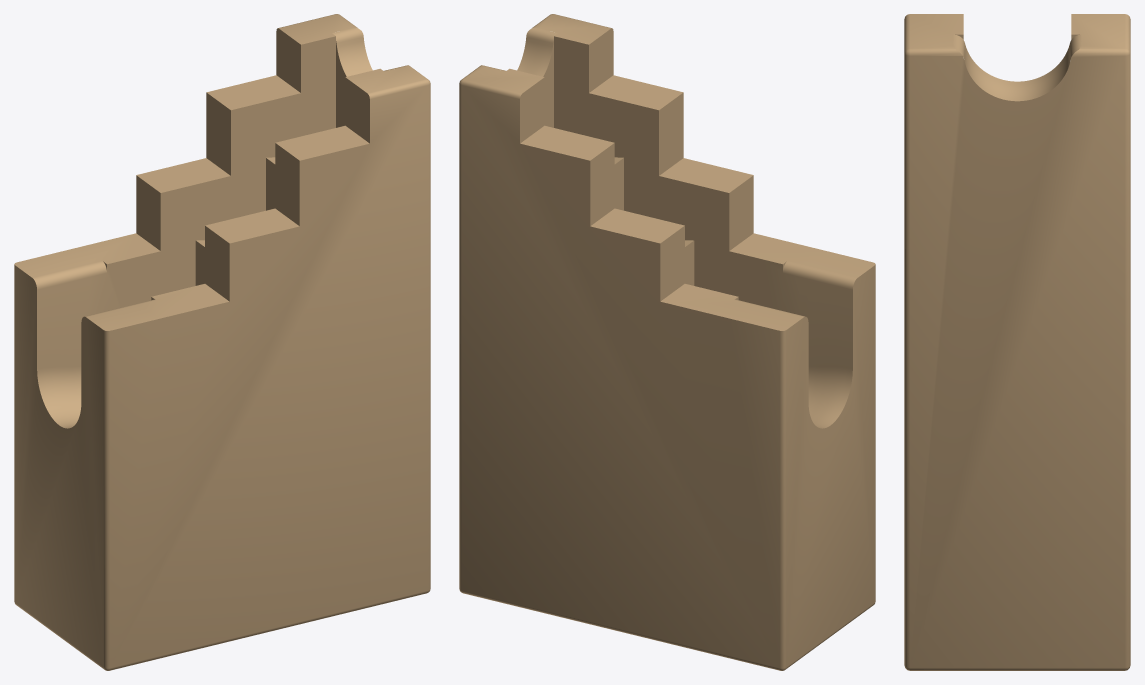
Rendered from mech_stepper_up1_l1.glb.
3 renders of one model, left to right at view 1: azimuth 30°, elevation 25°; view 2: azimuth 150°, elevation 25°; view 3: azimuth 270°, elevation 25°, orthographic. The views are drawn at different scales.
Visible parts, largest first — view 1: mech_stepper_up1_l1_lod0; view 2: mech_stepper_up1_l1_lod0; view 3: mech_stepper_up1_l1_lod0.
Part boxes in pixels (x1,y1,x2,y2): mech_stepper_up1_l1_lod0: [14, 14, 430, 670]; mech_stepper_up1_l1_lod0: [459, 14, 875, 670]; mech_stepper_up1_l1_lod0: [904, 14, 1130, 670].
Size of what is drawn, in the model's own units: 0.119 by 0.179 by 0.059.
